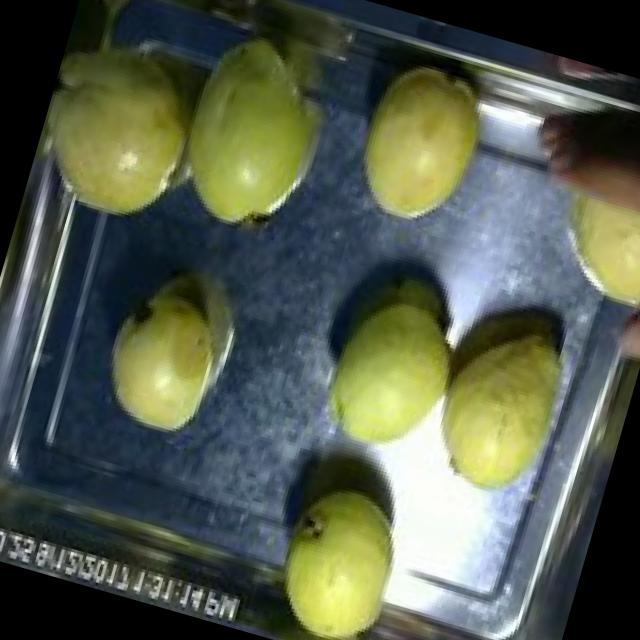Fruit: (144, 10, 362, 259), (21, 0, 237, 245), (298, 243, 491, 479), (414, 280, 600, 517), (330, 41, 512, 251), (85, 272, 248, 454), (263, 464, 425, 640), (530, 127, 640, 328)
